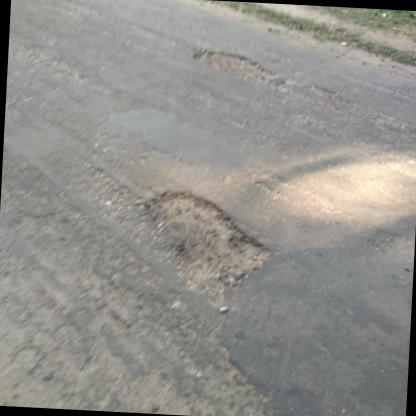pothole: (138, 184, 281, 302), (190, 45, 281, 82)
